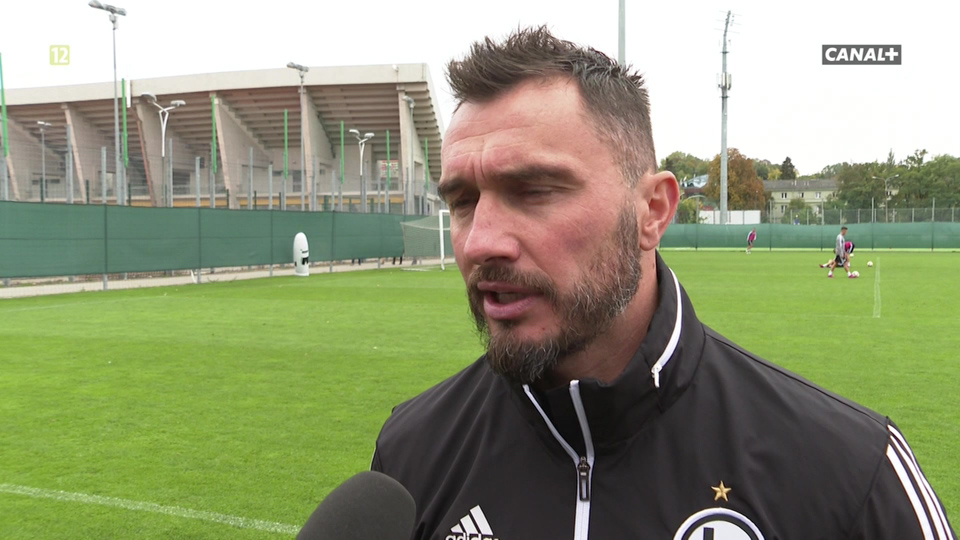Adidas: (444, 502, 499, 540)
